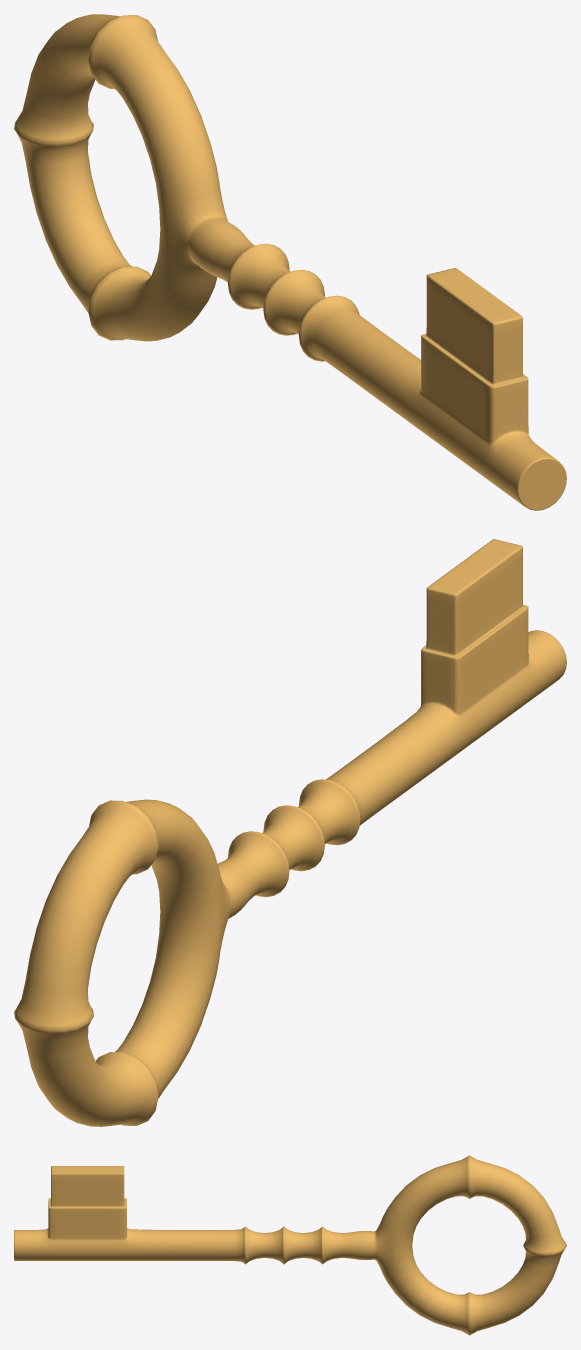
Rendered from llave.fbx.
3 renders of one model, top to bottom at view 1: azimuth 30°, elevation 25°; view 2: azimuth 150°, elevation 25°; view 3: azimuth 270°, elevation 25°, orthographic. The views are drawn at different scales.
Visible parts, largest first — view 1: Key; view 2: Key; view 3: Key.
Part boxes in pixels (x1,y1,x2,y2): Key: (14,14,566,510); Key: (14,539,566,1126); Key: (14,1155,566,1335).
Size of the model in its own units: 2.59 by 11.49 by 32.63.
